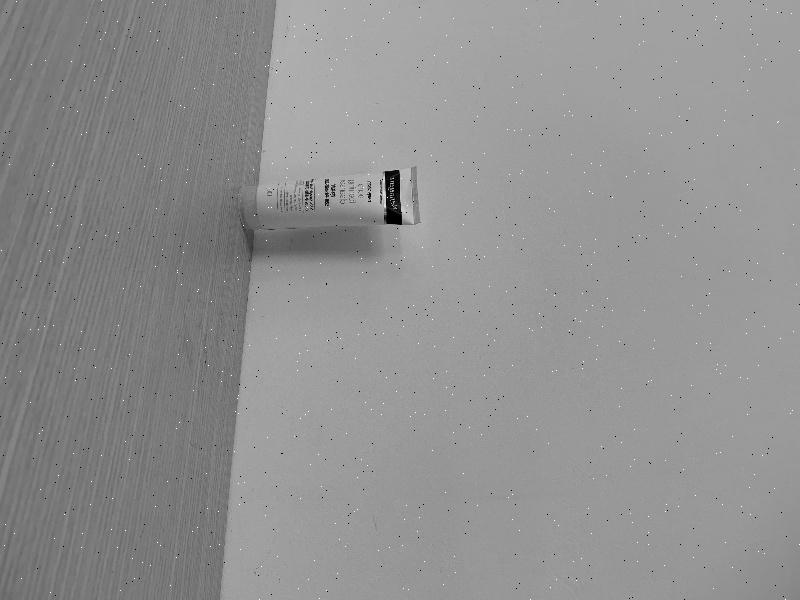AcneFoamingCleanser: (238, 166, 421, 231)
